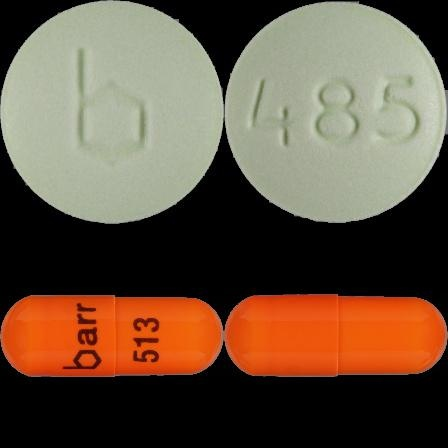0555-0485: (0, 0, 224, 224)
